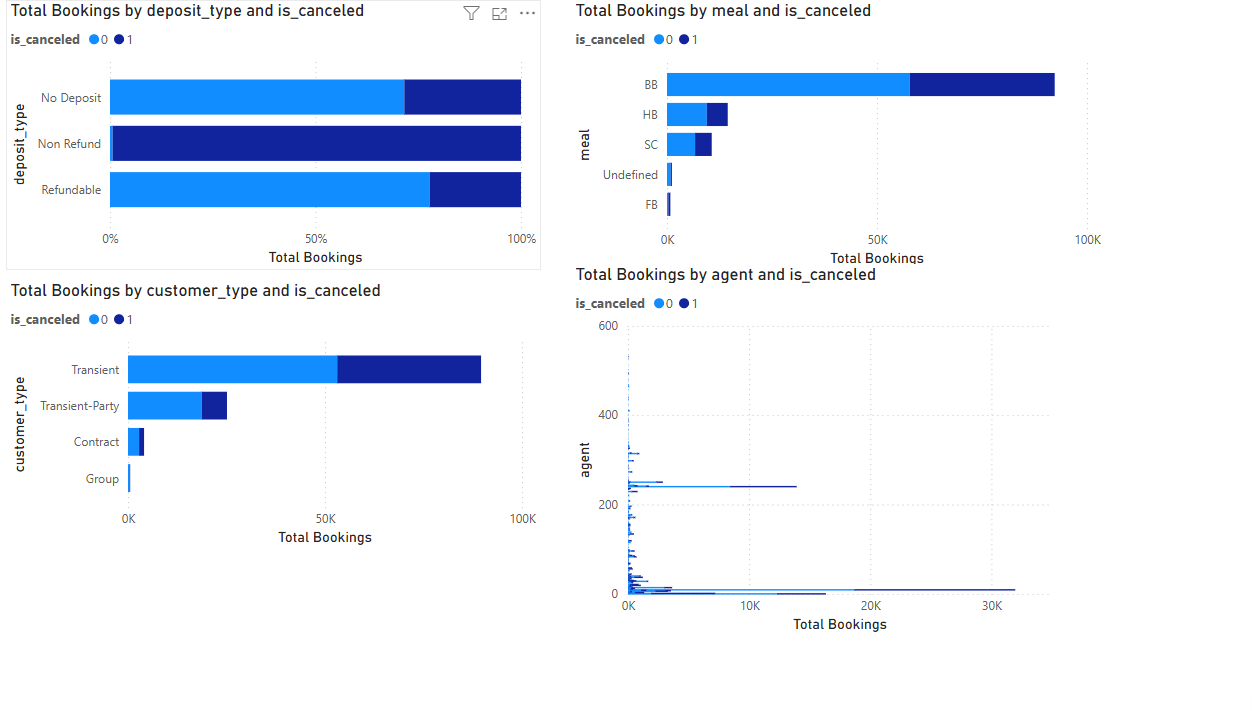

The page's visual inventory and layout, read from the dashboard file:
{"tool":"powerbi","page":{"name":"Page 4","canvas":[1280,720],"ordinal":3},"visuals":[{"type":"hundredPercentStackedBarChart","fields":{"Category":["hotel_booking_clean33.deposit_type"],"Y":["hotel_booking_clean33.Total Bookings"],"Series":["hotel_booking_clean33.is_canceled"]},"box":[10.1,0,534.6,269.5],"z":0},{"type":"barChart","fields":{"Category":["hotel_booking_clean33.customer_type"],"Y":["hotel_booking_clean33.Total Bookings"],"Series":["hotel_booking_clean33.is_canceled"]},"box":[10,280,535,270],"z":1},{"type":"barChart","fields":{"Category":["hotel_booking_clean33.meal"],"Y":["hotel_booking_clean33.Total Bookings"],"Series":["hotel_booking_clean33.is_canceled"]},"box":[575.2,0,534.6,270.7],"z":2},{"type":"barChart","fields":{"Y":["hotel_booking_clean33.Total Bookings"],"Category":["hotel_booking_clean33.agent"],"Series":["hotel_booking_clean33.is_canceled"]},"box":[575.4,263.8,495.4,373.1],"z":3}]}

Visuals, with their boxes in screenshot pixels (x1, y1, x2, y2), scaled from the page's 1280x720 canvas onto the 1252x711 screenshot:
hundredPercentStackedBarChart - hotel_booking_clean33.deposit_type x hotel_booking_clean33.Total Bookings: <region>10, 0, 533, 266</region>
barChart - hotel_booking_clean33.customer_type x hotel_booking_clean33.Total Bookings: <region>10, 276, 533, 543</region>
barChart - hotel_booking_clean33.meal x hotel_booking_clean33.Total Bookings: <region>563, 0, 1086, 267</region>
barChart - hotel_booking_clean33.Total Bookings x hotel_booking_clean33.agent: <region>563, 261, 1047, 629</region>
